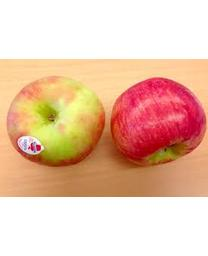apple: (5, 75, 104, 166), (110, 76, 207, 167)
